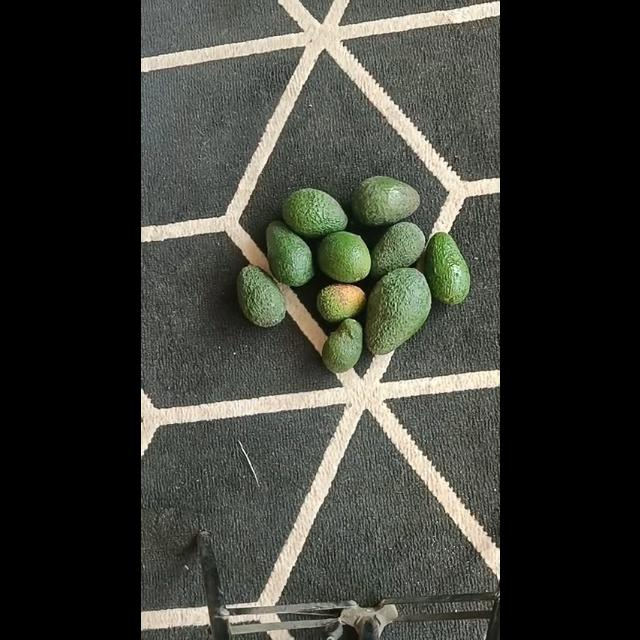Primera: (364, 268, 432, 354)
Segunda: (280, 186, 348, 238), (349, 176, 418, 227), (422, 232, 470, 304), (264, 220, 314, 286), (315, 230, 371, 282)
Tercera: (368, 221, 426, 279), (235, 265, 285, 327), (320, 318, 362, 372), (316, 282, 366, 322)
